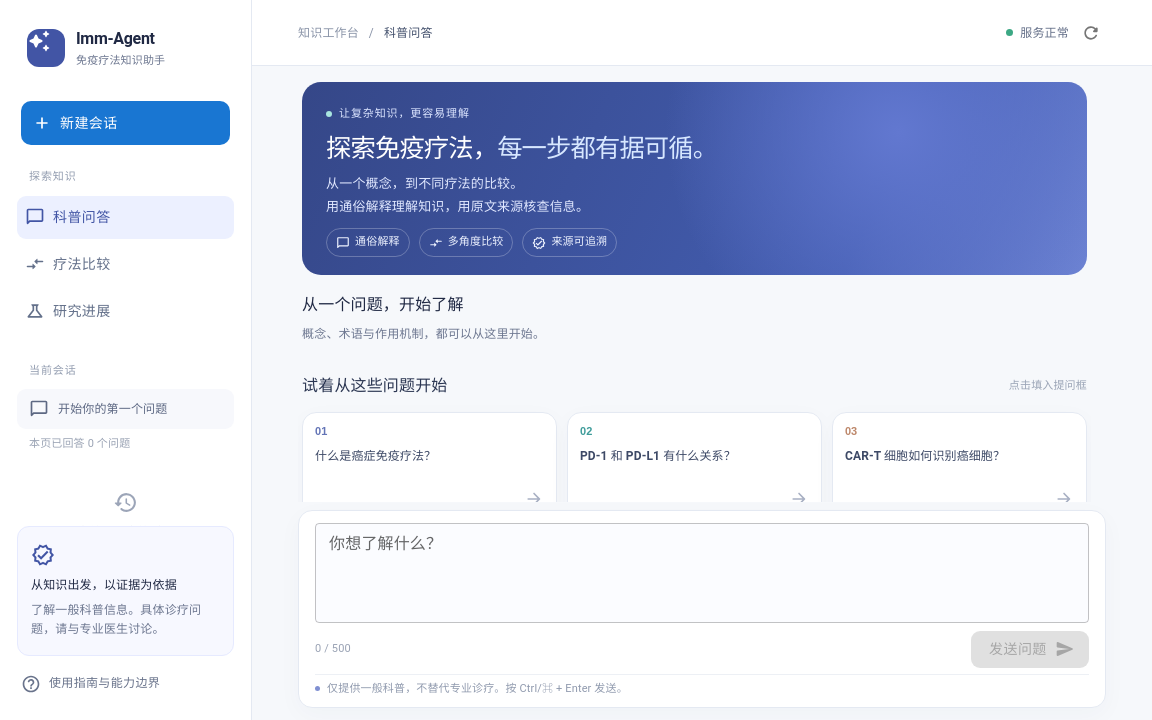
Test case: shows evidence insufficiency without inventing a source
Type "资料不足的问题？" into the text box labelled "你想了解什么？". click: coordinates (702, 543)
box: [329,532,1075,554]
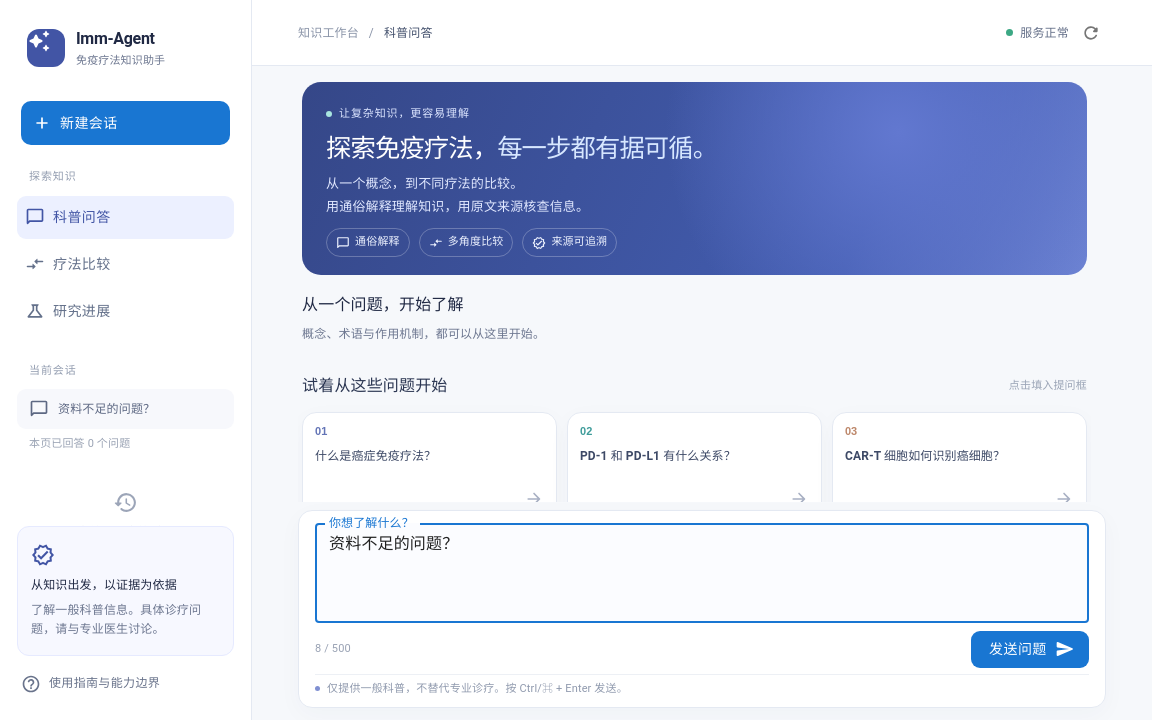
Click the button "发送问题". click: coordinates (1030, 649)
box: [971,631,1089,668]
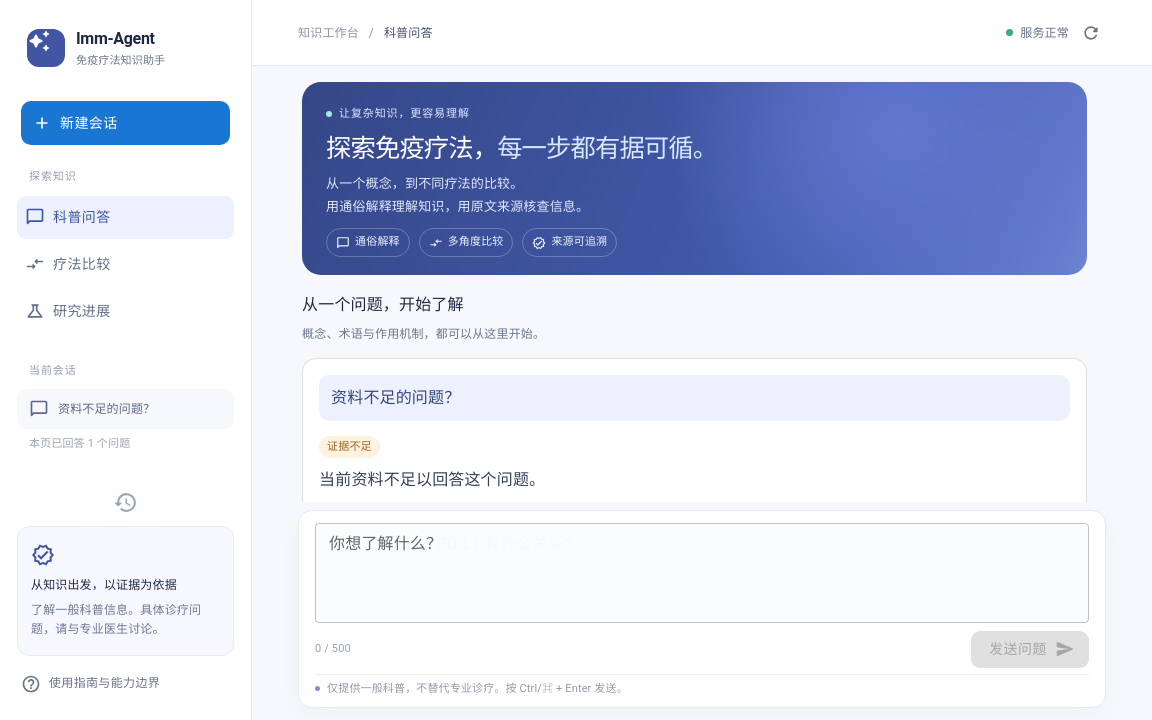
Expected: the text "当前资料不足以回答这个问题。" is shown, [319,470,545,489]
